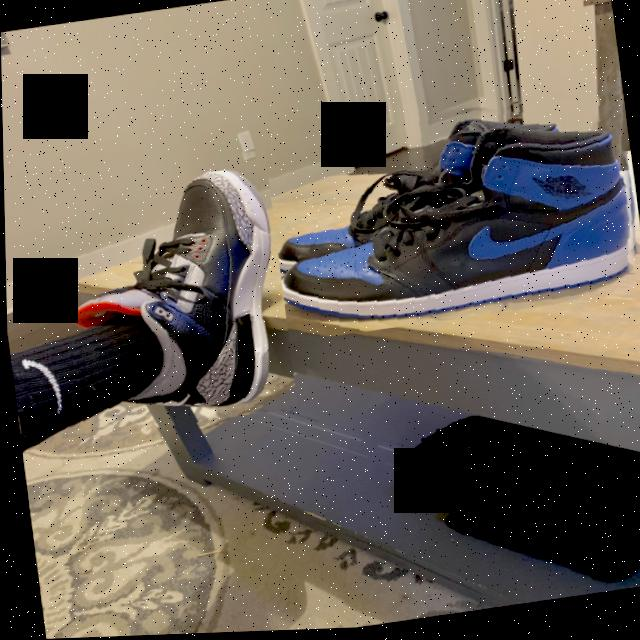shoe: (256, 78, 640, 346), (32, 142, 295, 441)
